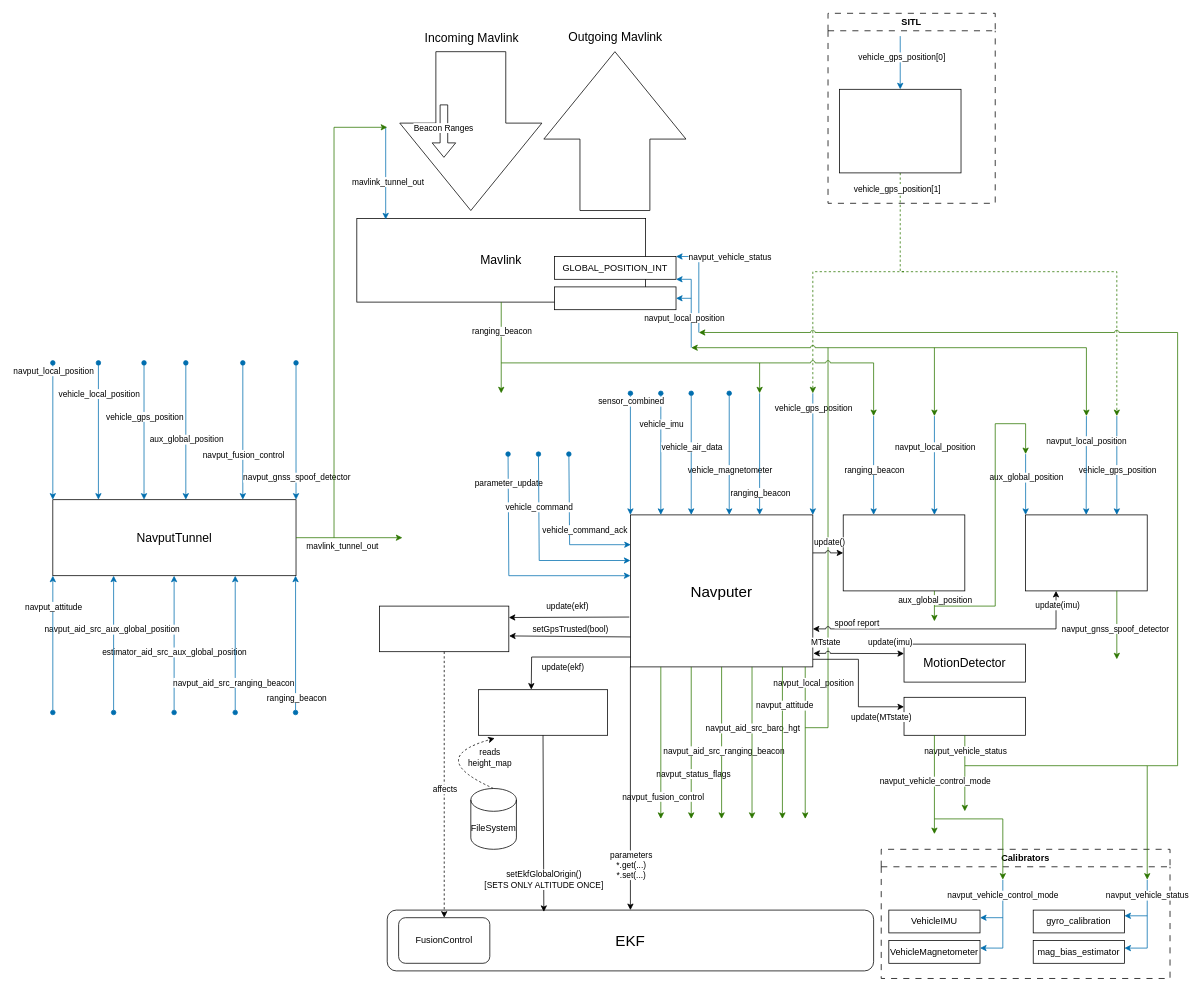
Some shapes in this 1202 by 992 pixel diagram are drawn without their labels. The shapes that lost their labels are listed below. From the top down, each one's centre as x and y in pixels, then its label:
pixel 900 131: Spoofer
pixel 615 298: LOCAL_POSITION_NED
pixel 903 552: MlatAux
pixel 1086 552: GnssSpooferDetector
pixel 444 628: FusionController
pixel 543 712: ElevationInitializer
pixel 964 716: CopilotLifecycle
